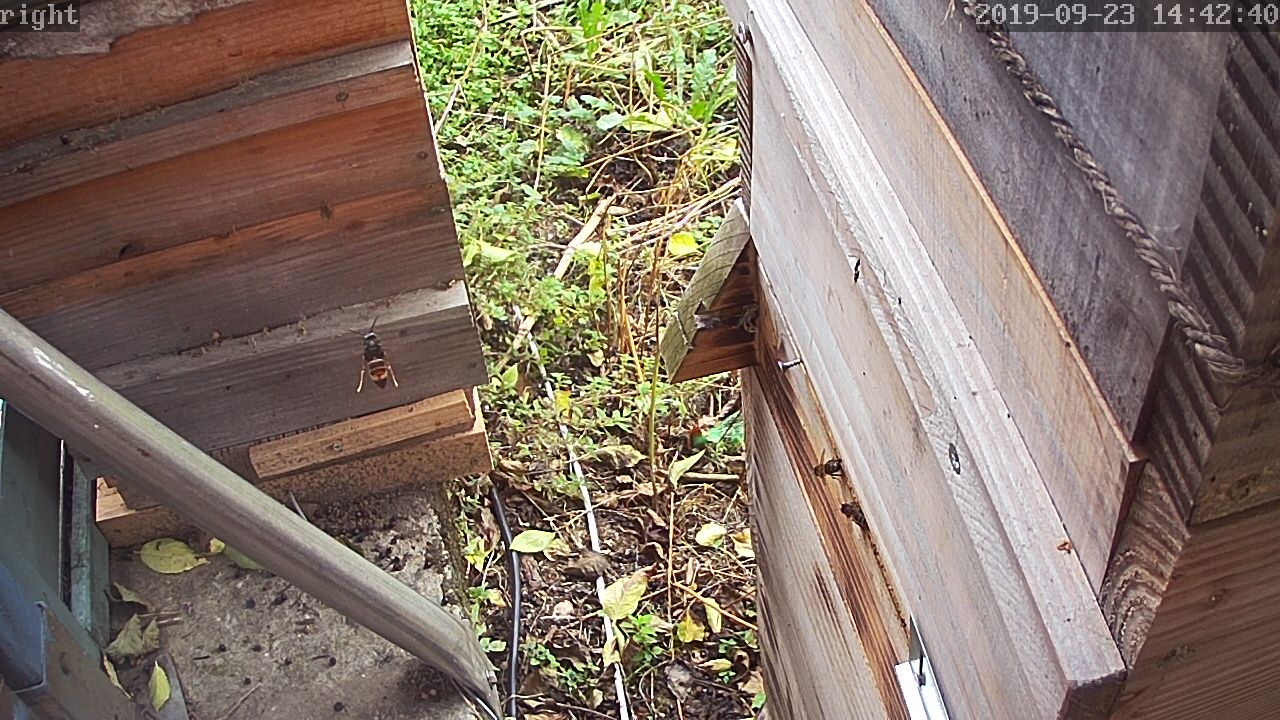bee: (830, 496, 870, 537), (805, 452, 844, 491)
hornet: (348, 326, 406, 390)
